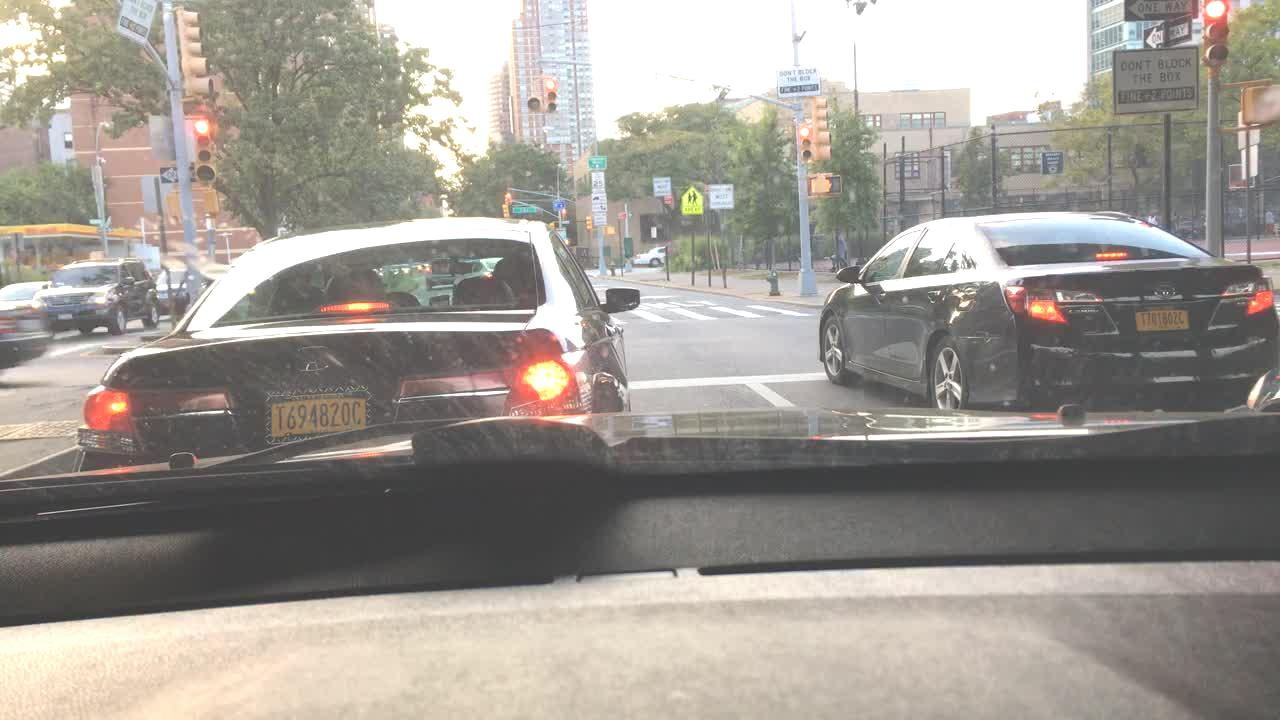Toyota: (1149, 280, 1179, 302)
acura: (289, 342, 339, 378)
